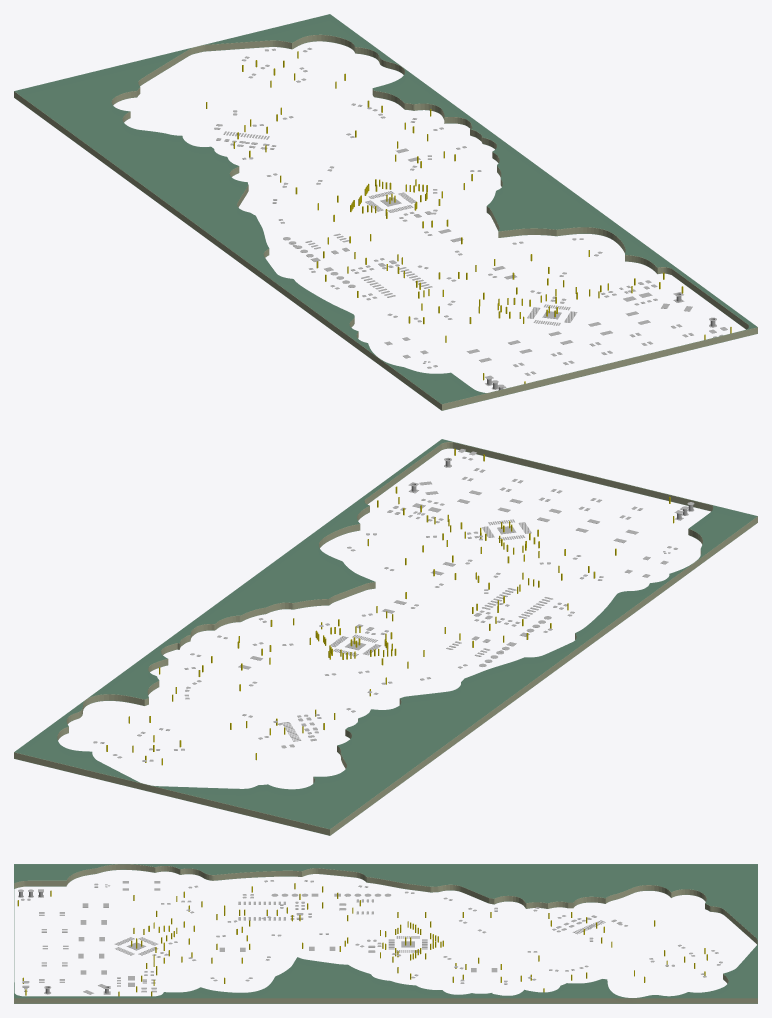
Rendered from cyphercon-5-3-badge-2022.glb.
3 renders of one model, top to bottom at view 1: azimuth 30°, elevation 25°; view 2: azimuth 150°, elevation 25°; view 3: azimuth 270°, elevation 25°, orthographic. The views are drawn at different scales.
Parts seen in each view (by area): view 1: =>[0:1:1:7], =>[0:1:1:5], =>[0:1:1:2]; view 2: =>[0:1:1:7], =>[0:1:1:5], =>[0:1:1:2]; view 3: =>[0:1:1:7], =>[0:1:1:5], =>[0:1:1:2].
Part boxes in pixels (x1=…): =>[0:1:1:7]: x1=14, y1=15, x2=757, y2=410; =>[0:1:1:5]: x1=14, y1=14, x2=757, y2=410; =>[0:1:1:2]: x1=206, y1=47, x2=731, y2=389; =>[0:1:1:7]: x1=14, y1=440, x2=757, y2=835; =>[0:1:1:5]: x1=14, y1=439, x2=757, y2=835; =>[0:1:1:2]: x1=93, y1=448, x2=694, y2=765; =>[0:1:1:7]: x1=14, y1=864, x2=757, y2=1003; =>[0:1:1:5]: x1=14, y1=864, x2=757, y2=1003; =>[0:1:1:2]: x1=17, y1=880, x2=722, y2=996.
Size of the model in its own units: 0.0801 by 0.00165 by 0.1879.
Materials: 4 (4 with a texture image).
